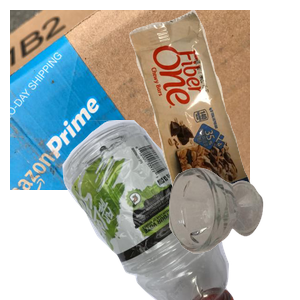cardboard: (10, 10, 250, 190)
glass: (166, 165, 300, 300)
plastic: (25, 120, 252, 300)
trash: (127, 10, 300, 190)
